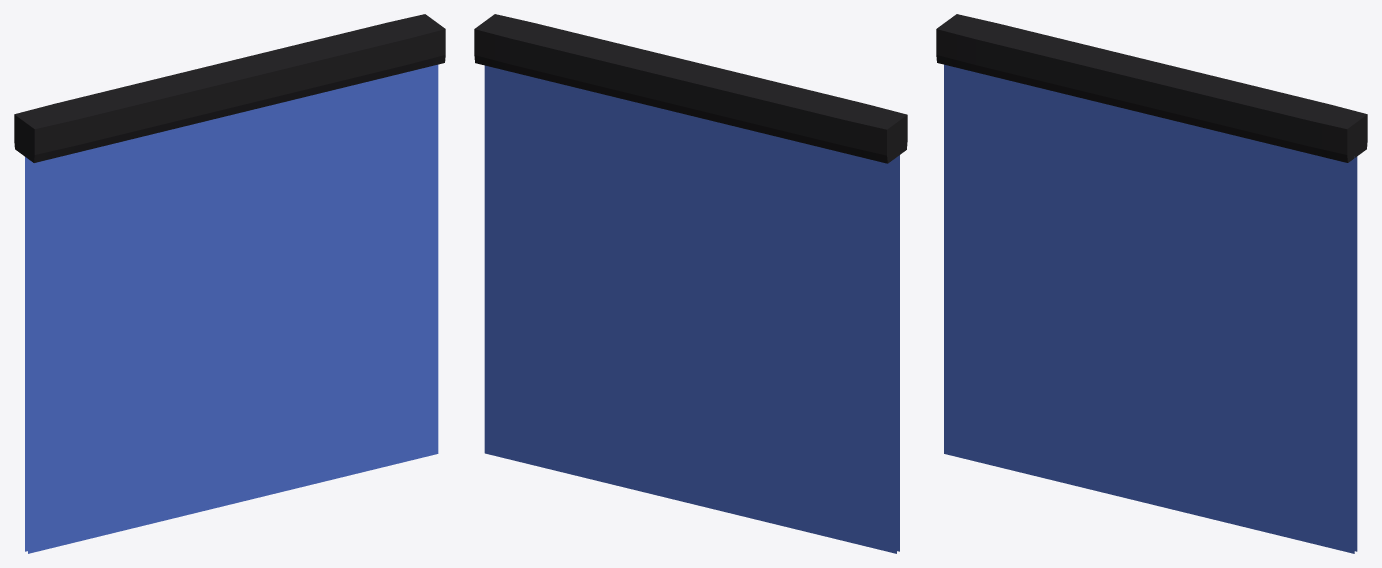
Rendered from Wall_Windowpane.fbx.
3 views of the same model, side by side, from view 1: azimuth 30°, elevation 25°; view 2: azimuth 150°, elevation 25°; view 3: azimuth 330°, elevation 25° (orthographic).
Visible parts, largest first — view 1: Wall_Windowpane; view 2: Wall_Windowpane; view 3: Wall_Windowpane.
Part boxes in pixels (x1,y1,x2,y2): Wall_Windowpane: (14, 14, 445, 553); Wall_Windowpane: (474, 14, 907, 553); Wall_Windowpane: (936, 14, 1367, 553).
Size of the model in its own units: 500 by 500 by 46.
